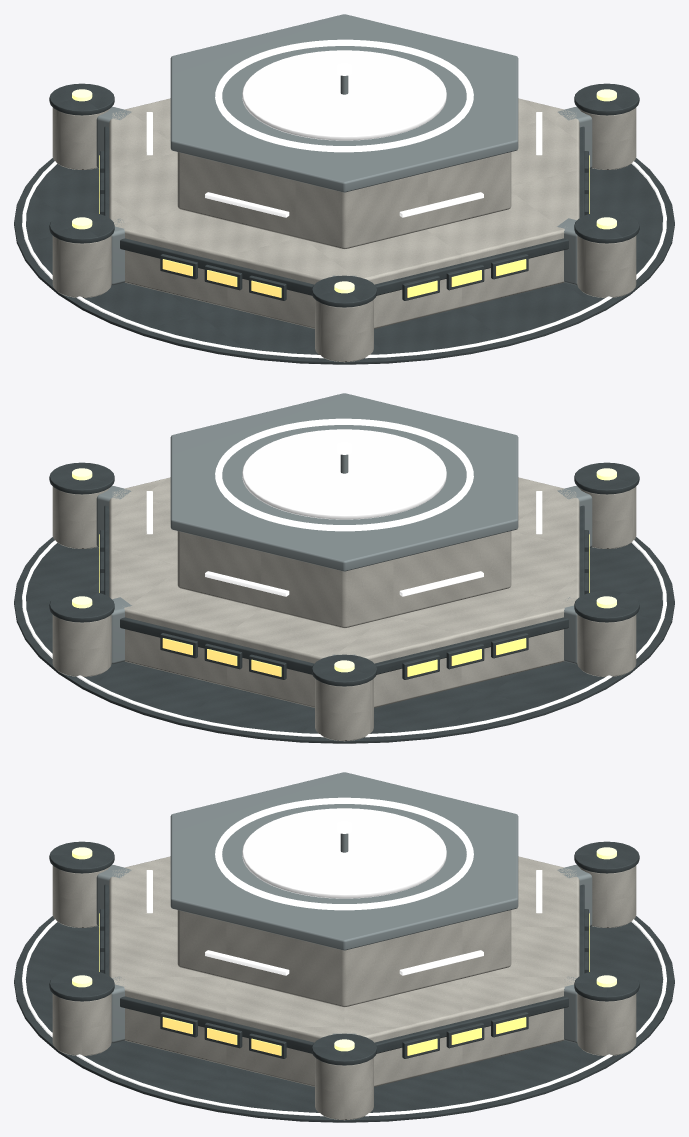
The model's file is crown-bastion.glb.
The picture shows the model from 3 angles, top to bottom: view 1: azimuth 30°, elevation 25°; view 2: azimuth 150°, elevation 25°; view 3: azimuth 270°, elevation 25°; orthographic projection.
Parts seen in each view (by area): view 1: MF_Roof_Crown__structure_ivory_ceramic, MF_Roof_Crown__structure_graphite_joints, MF_Roof_Crown__brushed_titanium, MF_Roof_Crown__identity_roof_inset, MF_Roof_Crown__identity_trim, MF_Roof_Crown__identity_roof_ring, MF_Roof_Crown__practical_warm_window_glass, MF_Roof_Crown__practical_station_marker; view 2: MF_Roof_Crown__structure_ivory_ceramic, MF_Roof_Crown__structure_graphite_joints, MF_Roof_Crown__brushed_titanium, MF_Roof_Crown__identity_roof_inset, MF_Roof_Crown__identity_trim, MF_Roof_Crown__identity_roof_ring, MF_Roof_Crown__practical_warm_window_glass, MF_Roof_Crown__practical_station_marker; view 3: MF_Roof_Crown__structure_ivory_ceramic, MF_Roof_Crown__structure_graphite_joints, MF_Roof_Crown__brushed_titanium, MF_Roof_Crown__identity_roof_inset, MF_Roof_Crown__identity_trim, MF_Roof_Crown__identity_roof_ring, MF_Roof_Crown__practical_warm_window_glass, MF_Roof_Crown__practical_station_marker.
Part boxes in pixels (x1,y1,x2,y2): MF_Roof_Crown__structure_ivory_ceramic: [52, 98, 636, 362]; MF_Roof_Crown__structure_graphite_joints: [14, 83, 674, 364]; MF_Roof_Crown__brushed_titanium: [96, 14, 592, 285]; MF_Roof_Crown__identity_roof_inset: [242, 50, 446, 140]; MF_Roof_Crown__identity_trim: [22, 112, 666, 358]; MF_Roof_Crown__identity_roof_ring: [215, 39, 473, 152]; MF_Roof_Crown__practical_warm_window_glass: [99, 155, 589, 297]; MF_Roof_Crown__practical_station_marker: [72, 89, 616, 293]; MF_Roof_Crown__structure_ivory_ceramic: [52, 477, 636, 741]; MF_Roof_Crown__structure_graphite_joints: [14, 462, 674, 743]; MF_Roof_Crown__brushed_titanium: [96, 393, 592, 664]; MF_Roof_Crown__identity_roof_inset: [242, 429, 446, 519]; MF_Roof_Crown__identity_trim: [22, 491, 666, 737]; MF_Roof_Crown__identity_roof_ring: [215, 418, 473, 531]; MF_Roof_Crown__practical_warm_window_glass: [99, 534, 589, 676]; MF_Roof_Crown__practical_station_marker: [72, 468, 616, 672]; MF_Roof_Crown__structure_ivory_ceramic: [52, 856, 636, 1120]; MF_Roof_Crown__structure_graphite_joints: [14, 841, 674, 1122]; MF_Roof_Crown__brushed_titanium: [96, 772, 592, 1043]; MF_Roof_Crown__identity_roof_inset: [242, 808, 446, 898]; MF_Roof_Crown__identity_trim: [22, 870, 666, 1116]; MF_Roof_Crown__identity_roof_ring: [215, 797, 473, 910]; MF_Roof_Crown__practical_warm_window_glass: [99, 913, 589, 1055]; MF_Roof_Crown__practical_station_marker: [72, 847, 616, 1051].
Size of the model in its own units: 17.06 by 4.46 by 16.8.
Materials: 9 (2 with a texture image).
